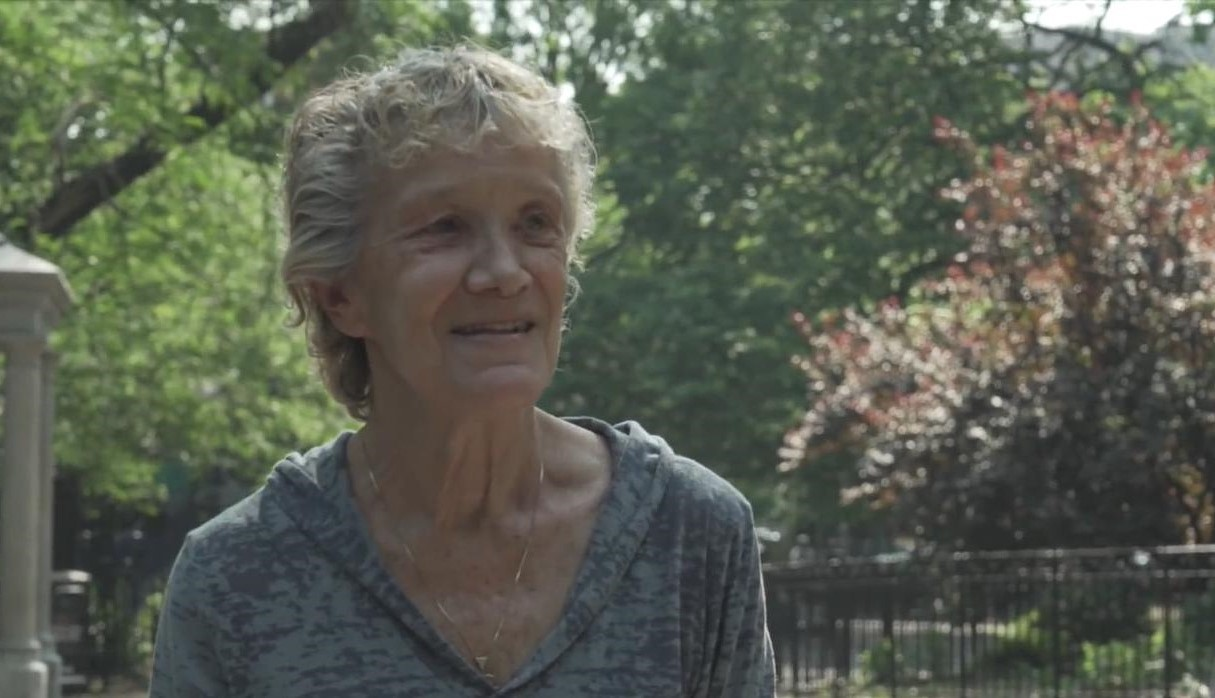without_mask: (399, 178, 558, 368)
